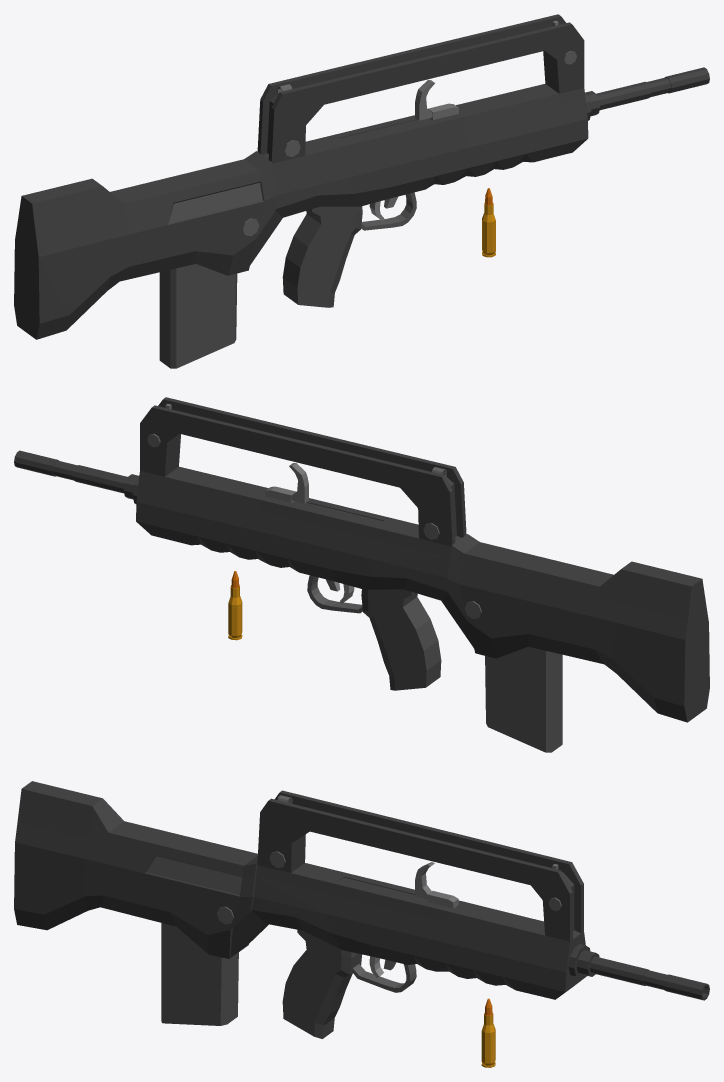
Rendered from FAMAS.fbx.
3 views of the same model, one above another, from view 1: azimuth 30°, elevation 25°; view 2: azimuth 150°, elevation 25°; view 3: azimuth 330°, elevation 25° (orthographic).
Visible parts, largest first — view 1: FAMAS, Mag, Bullet; view 2: FAMAS, Mag, Bullet; view 3: FAMAS, Mag, Bullet.
Boxes of the visible parts, x1,y1,x2,y2 form: FAMAS: [14, 14, 709, 339]; Mag: [159, 264, 237, 368]; Bullet: [482, 188, 495, 257]; FAMAS: [14, 397, 709, 722]; Mag: [485, 646, 562, 752]; Bullet: [228, 571, 242, 640]; FAMAS: [14, 781, 709, 1038]; Mag: [161, 923, 238, 1025]; Bullet: [481, 998, 495, 1067].
Size of the model in its own units: 988 by 349 by 65.36.
Materials: 1 (1 with a texture image).
